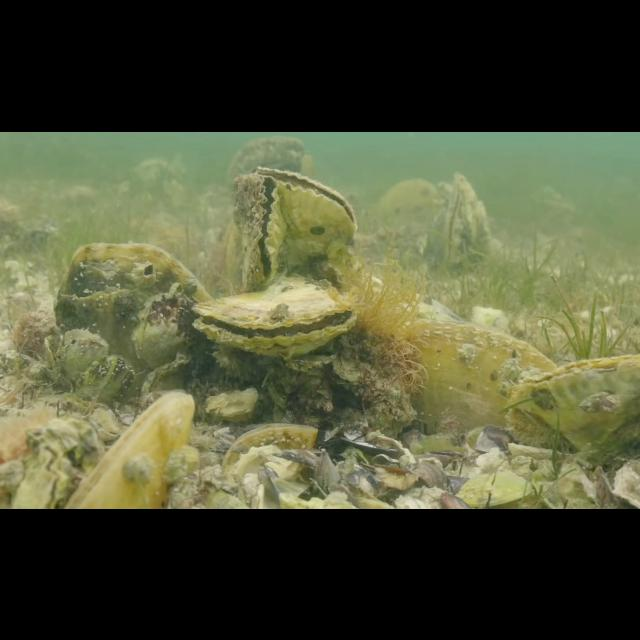Oyster-Closed: (50, 238, 214, 374), (398, 312, 560, 443), (62, 387, 198, 509), (501, 351, 640, 454), (439, 170, 496, 272), (220, 417, 320, 473), (78, 354, 136, 408), (142, 351, 194, 397)
Oyster-Open: (190, 276, 360, 358), (253, 162, 359, 270), (230, 172, 288, 290), (9, 434, 67, 508), (58, 326, 108, 384)
